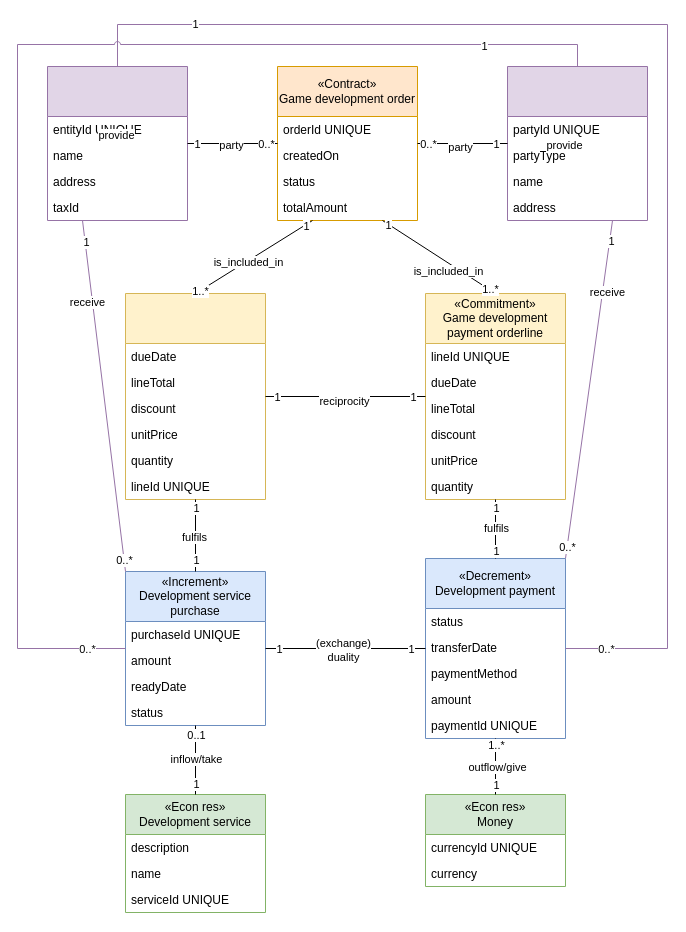
Some shapes in this 686 by 932 pixel diagram are drawn without their labels. The box of each missing label's shape, as (x1, y1, x2, y2) in pixels:
«Commitment» Game development purchase orderline: (124, 292, 266, 500)
«Econ agent» Neighcorp: (46, 66, 188, 220)
«Econ agent» Outsourced development contractor: (506, 66, 648, 220)
